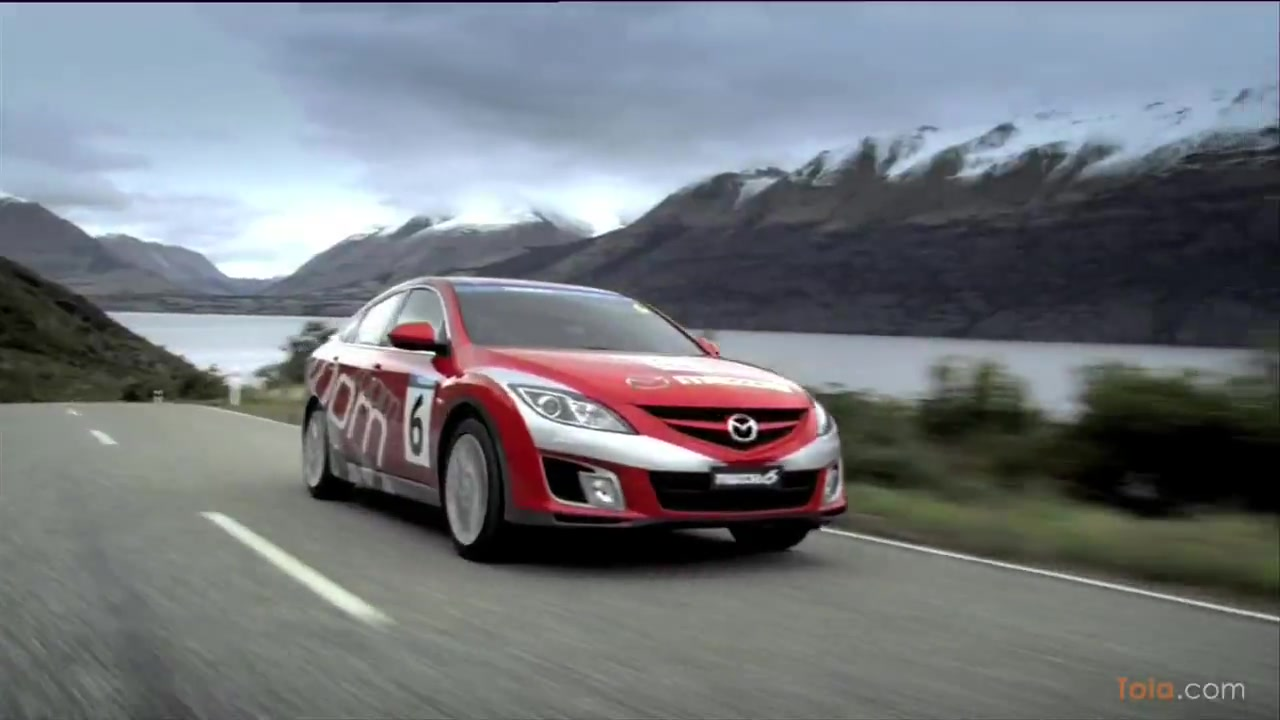car: (298, 268, 850, 564)
